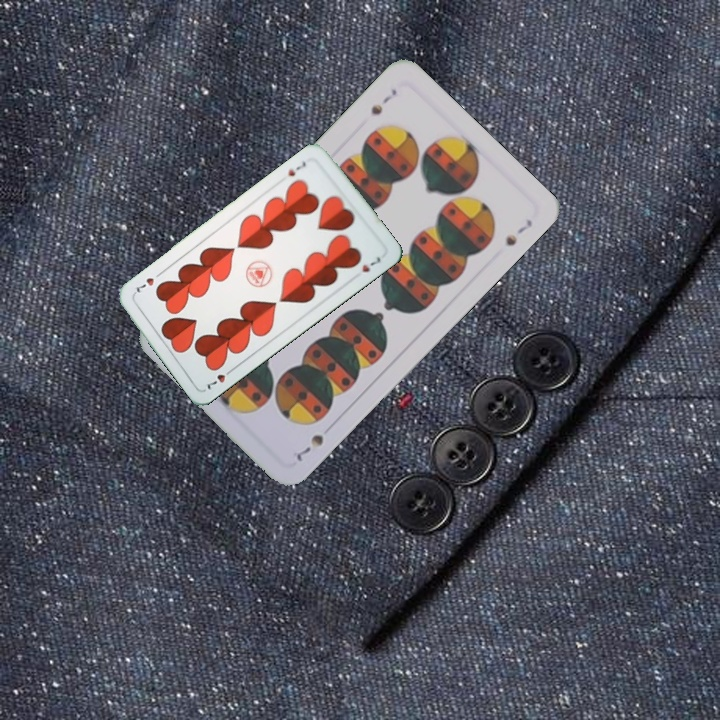H7: (203, 364, 237, 392), (284, 156, 308, 179)
S7: (292, 430, 326, 464), (367, 84, 400, 118)
